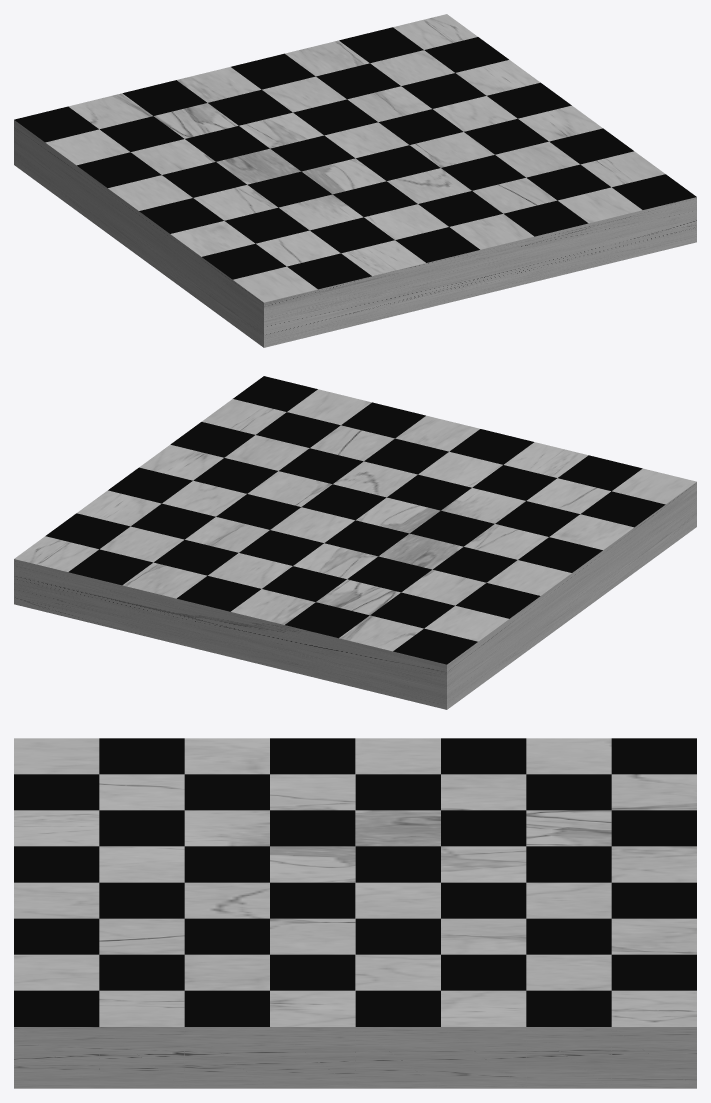
Rendered from Board.fbx.
The picture shows the model from 3 angles, top to bottom: view 1: azimuth 30°, elevation 25°; view 2: azimuth 150°, elevation 25°; view 3: azimuth 270°, elevation 25°; orthographic projection. The views are drawn at different scales.
Parts seen in each view (by area): view 1: Board; view 2: Board; view 3: Board.
Boxes of the visible parts, x1=… form: Board: x1=14, y1=14, x2=696, y2=347; Board: x1=14, y1=376, x2=696, y2=709; Board: x1=14, y1=738, x2=696, y2=1088.
Size of the model in its own units: 20 by 2 by 20.
